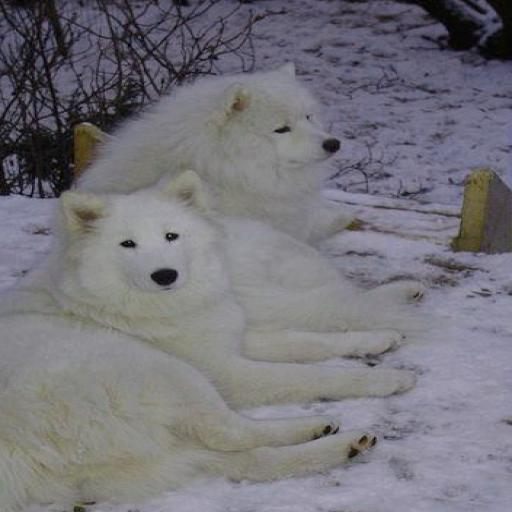dog_face: (67, 185, 222, 302), (214, 60, 346, 175)
